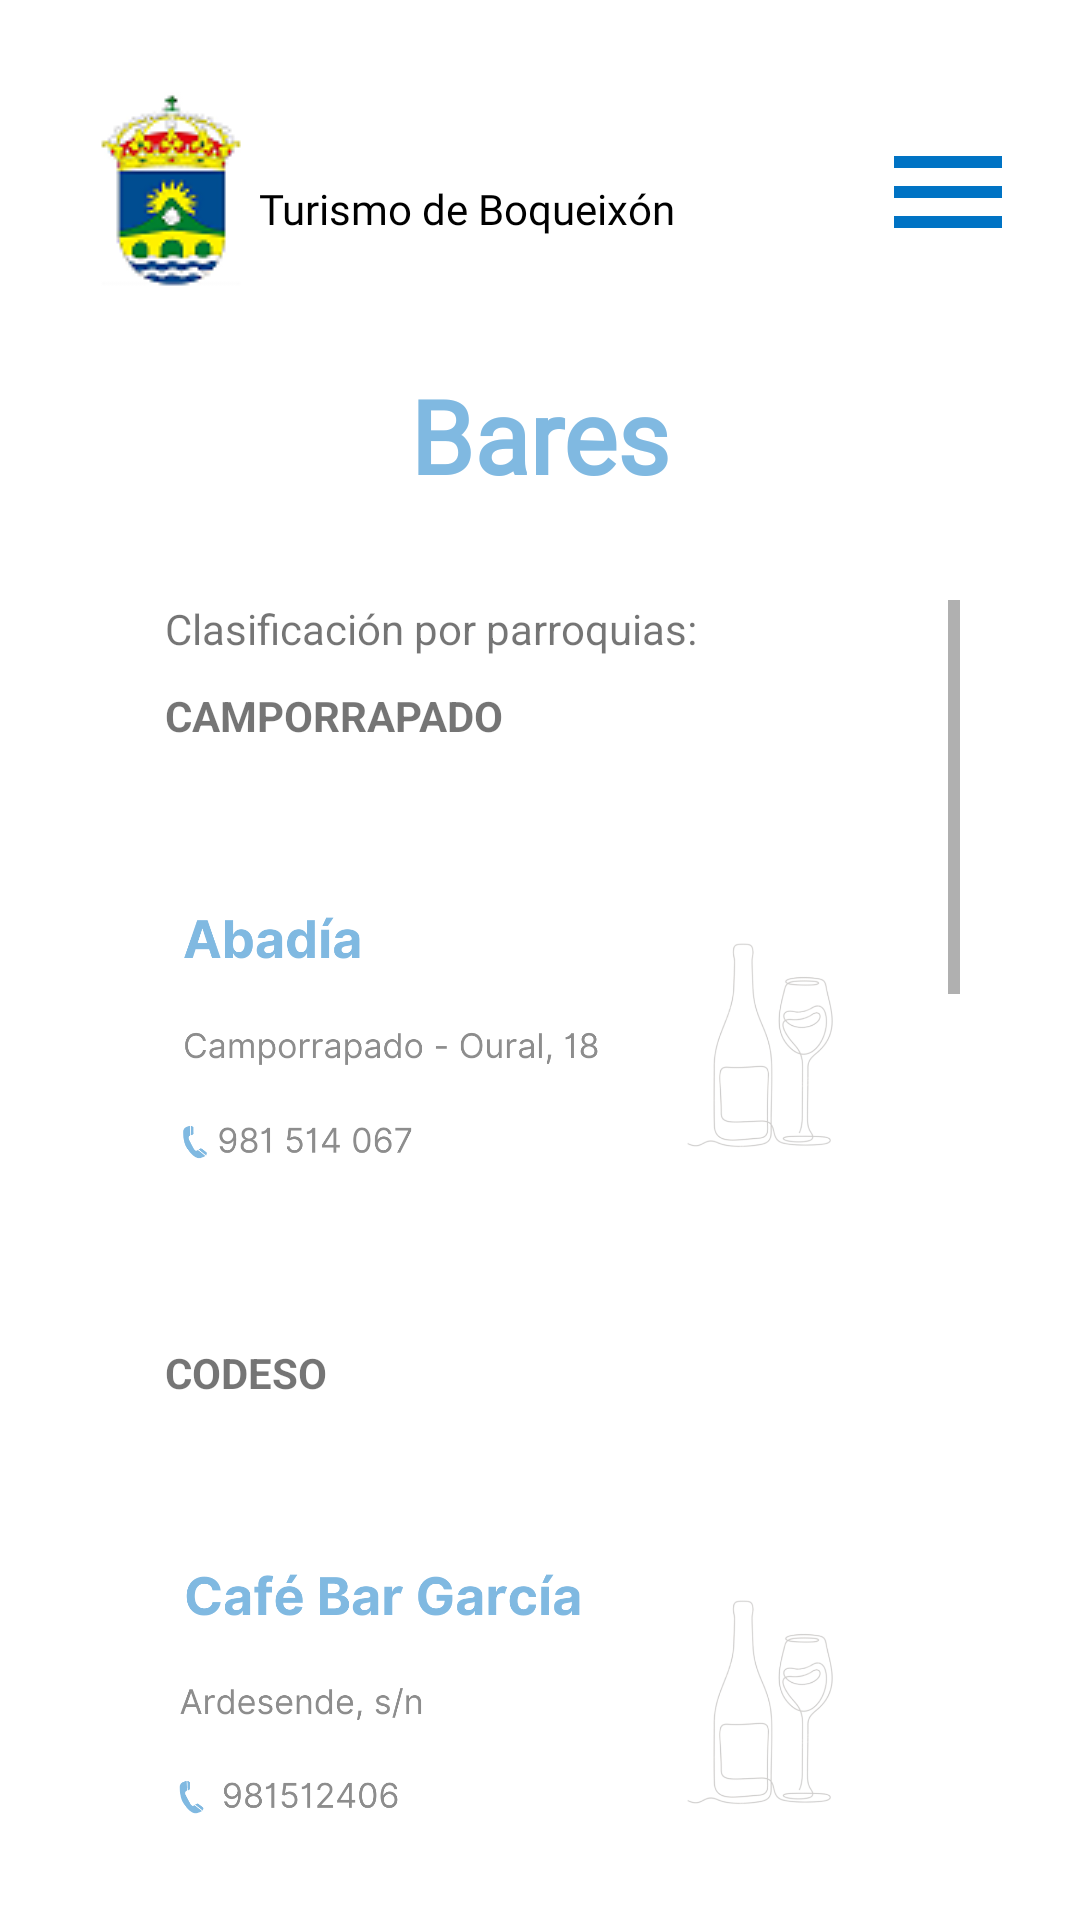

Screen size 1080*1920. Icon name, then its box in pixels as (x1, y1, x2, y2):
hamburguesa: (894, 156, 1002, 228)
